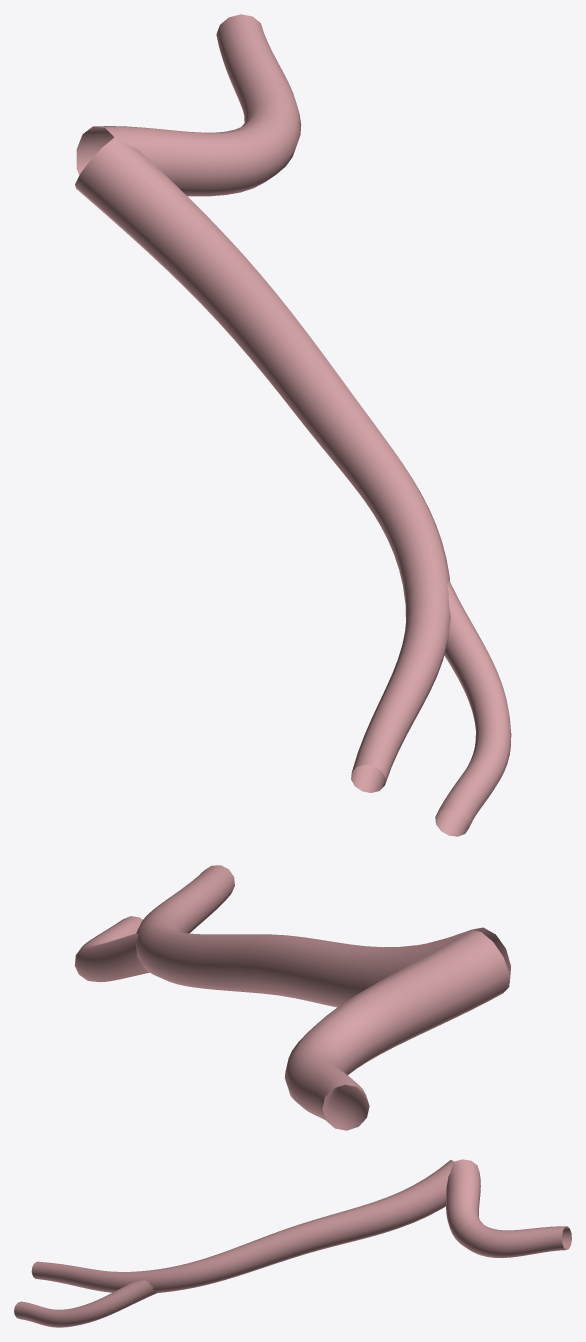
3 renders of one model, top to bottom at view 1: azimuth 30°, elevation 25°; view 2: azimuth 210°, elevation 25°; view 3: azimuth 270°, elevation 25°, orthographic. The views are drawn at different scales.
Parts seen in each view (by area): view 1: ZA_97fb4570dc10f0a1; view 2: ZA_97fb4570dc10f0a1; view 3: ZA_97fb4570dc10f0a1.
Part boxes in pixels (x1,y1,x2,y2): ZA_97fb4570dc10f0a1: (75, 14, 511, 836); ZA_97fb4570dc10f0a1: (74, 865, 510, 1130); ZA_97fb4570dc10f0a1: (14, 1159, 571, 1327).
Size of the model in its own units: 0.0418 by 0.0336 by 0.0935.
